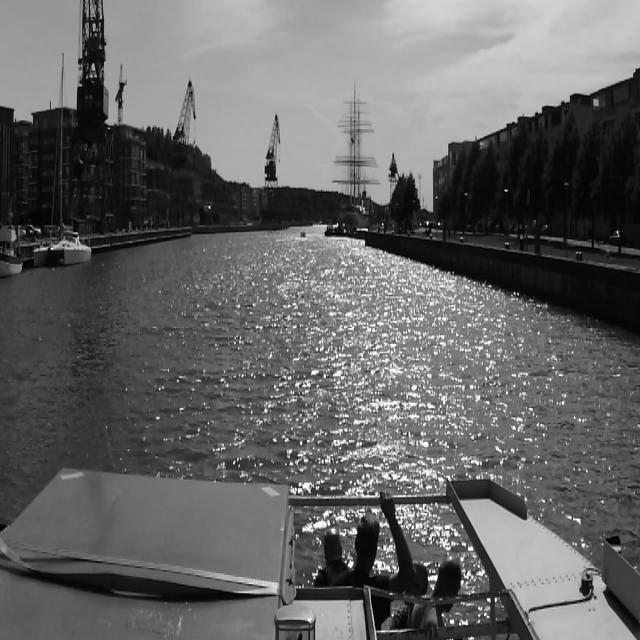ship: (32, 49, 92, 271), (331, 81, 381, 232), (0, 223, 24, 275), (325, 221, 333, 235), (300, 231, 306, 237)
